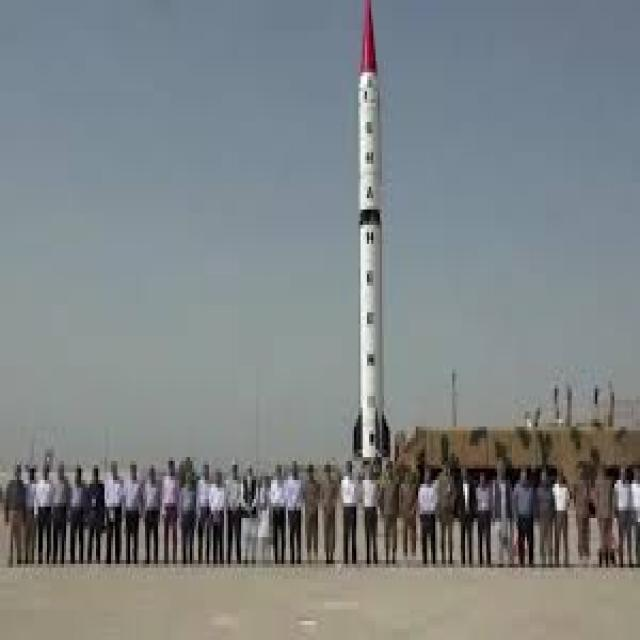missile: (353, 0, 392, 452)
